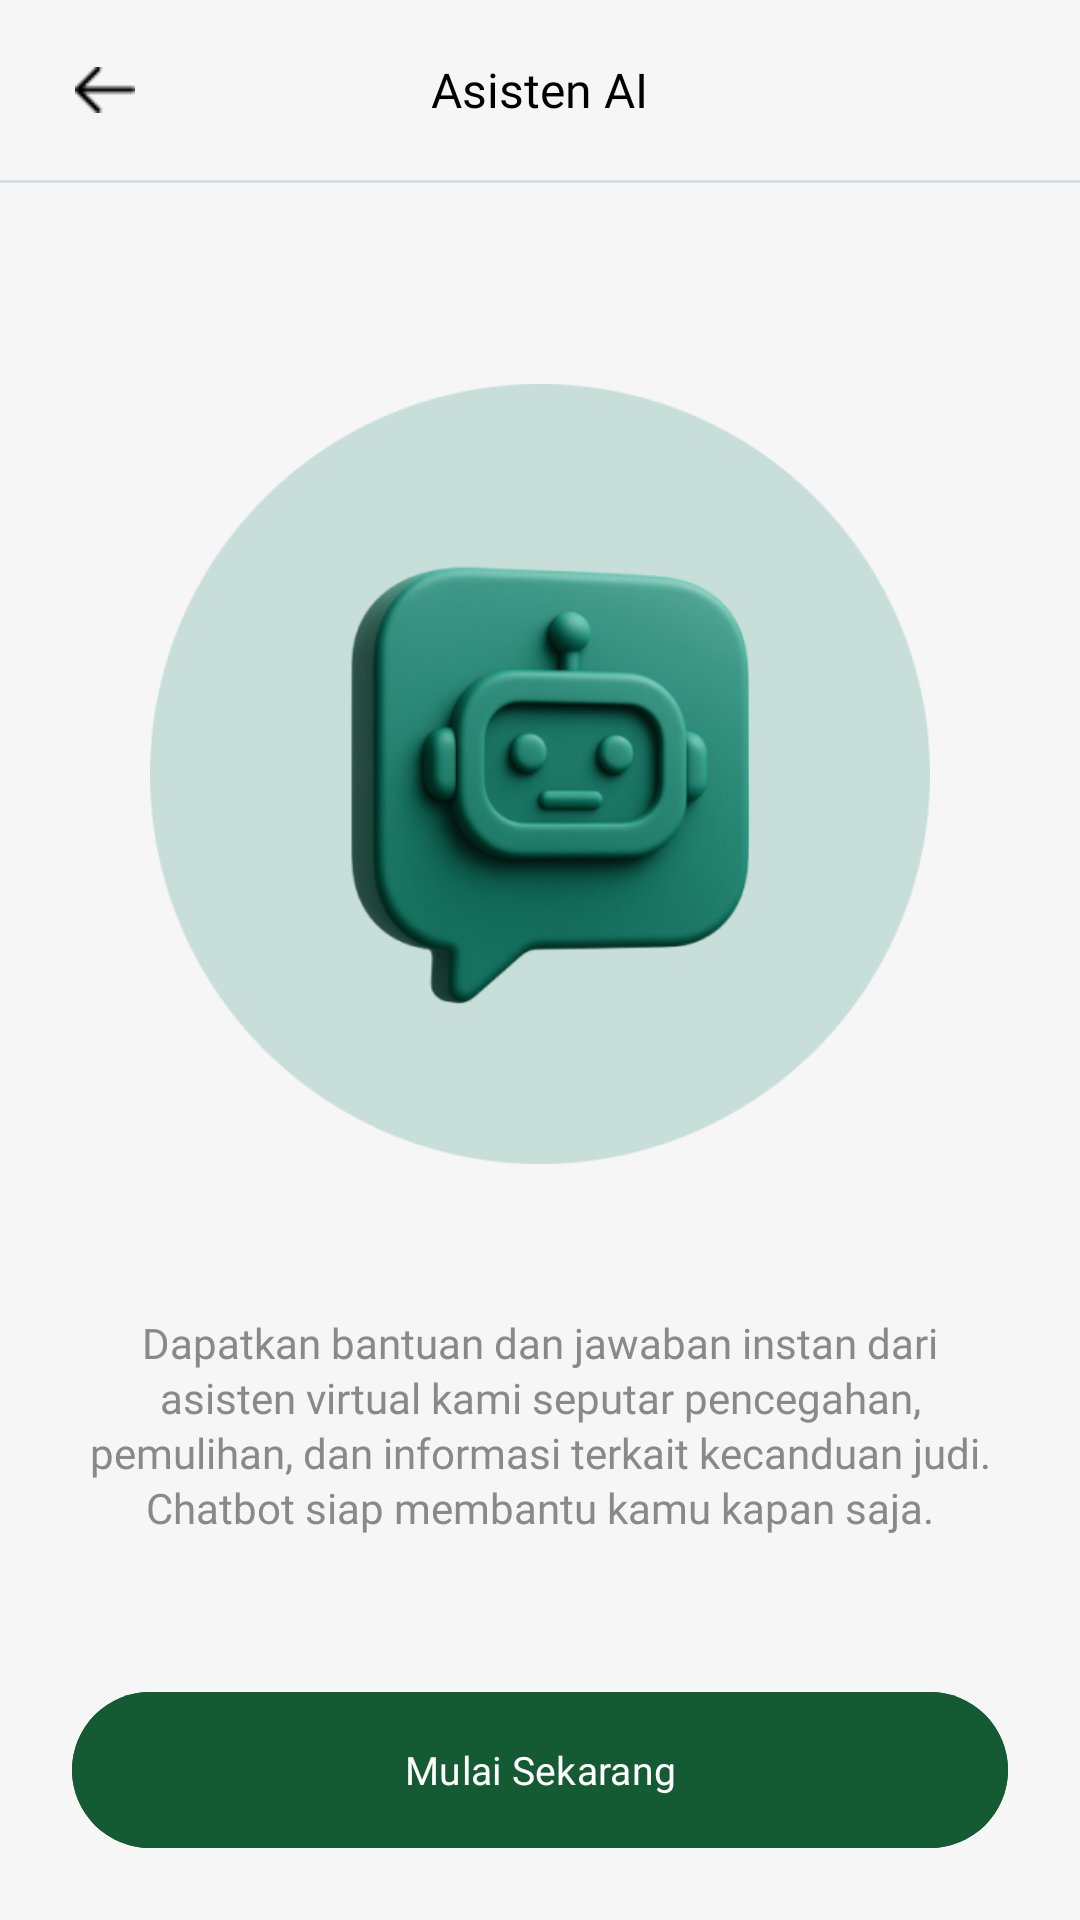

Screen size 1080px×1920px. Icon name, then its center in pixels as (x=x, y=y):
arrow left: (x=105, y=90)
